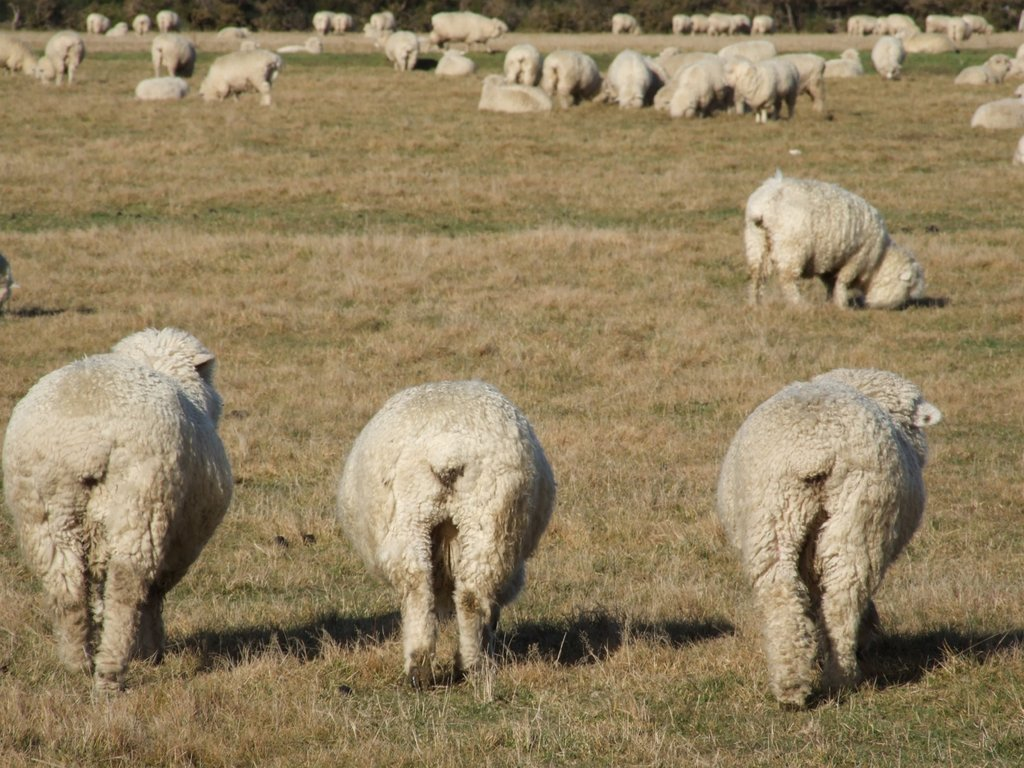sheep: (741, 163, 922, 303)
